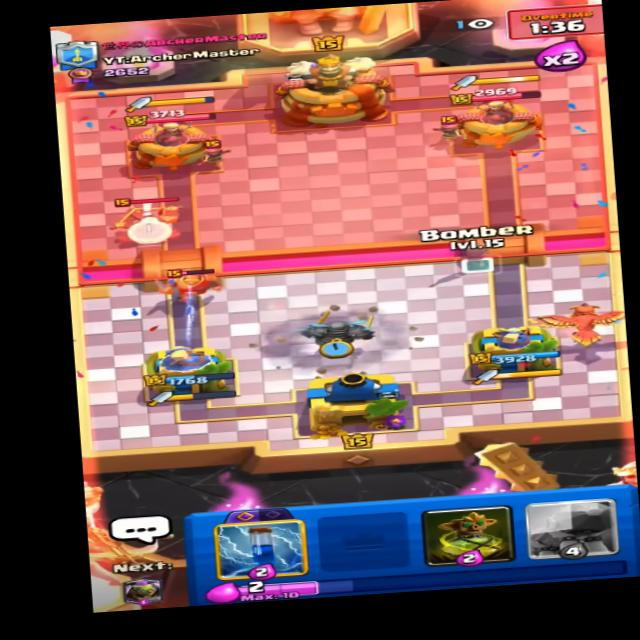Archer: (433, 114, 469, 141), (189, 142, 223, 170)
Knight: (154, 253, 233, 304)
Xbow: (102, 192, 190, 244)
